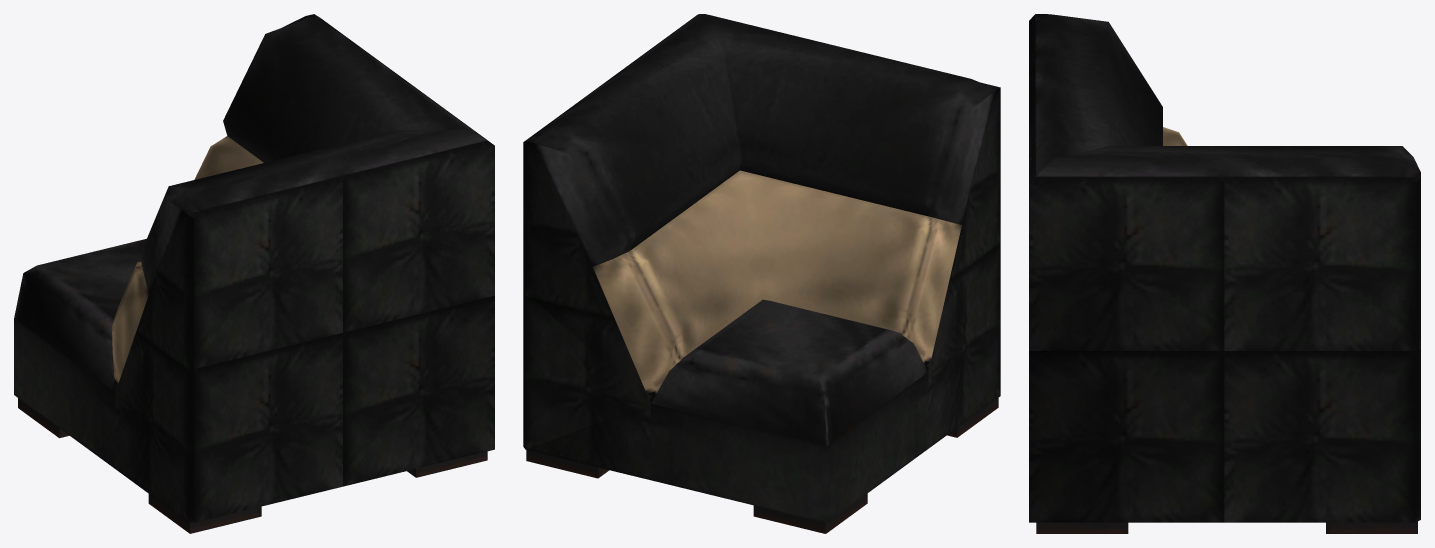
Rendered from Couch02_Corner.FBX.
3 views of the same model, side by side, from view 1: azimuth 30°, elevation 25°; view 2: azimuth 150°, elevation 25°; view 3: azimuth 270°, elevation 25° (orthographic). The views are drawn at different scales.
Visible parts, largest first — view 1: Couch02_Corner; view 2: Couch02_Corner; view 3: Couch02_Corner.
Part boxes in pixels (left/top/right/bottom): Couch02_Corner: left=14, top=14, right=494, bottom=533; Couch02_Corner: left=523, top=14, right=1000, bottom=533; Couch02_Corner: left=1029, top=14, right=1420, bottom=533.
Size of the model in its own units: 0.9961 by 1.03 by 0.9961.
